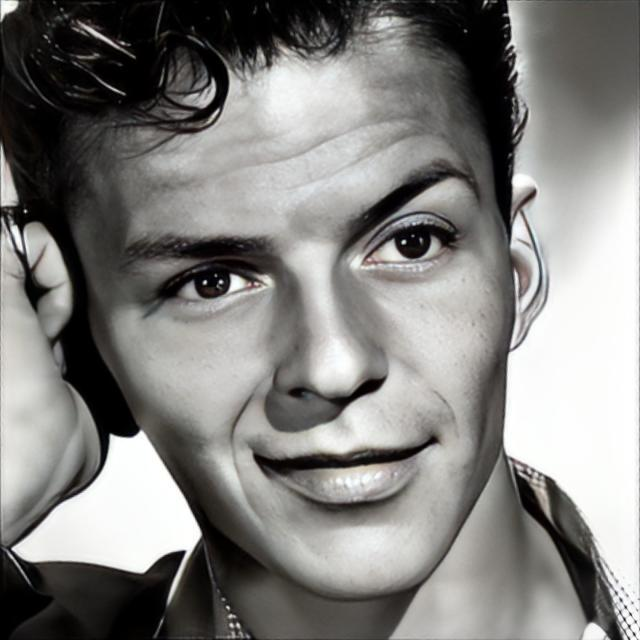content: (64, 0, 515, 598)
